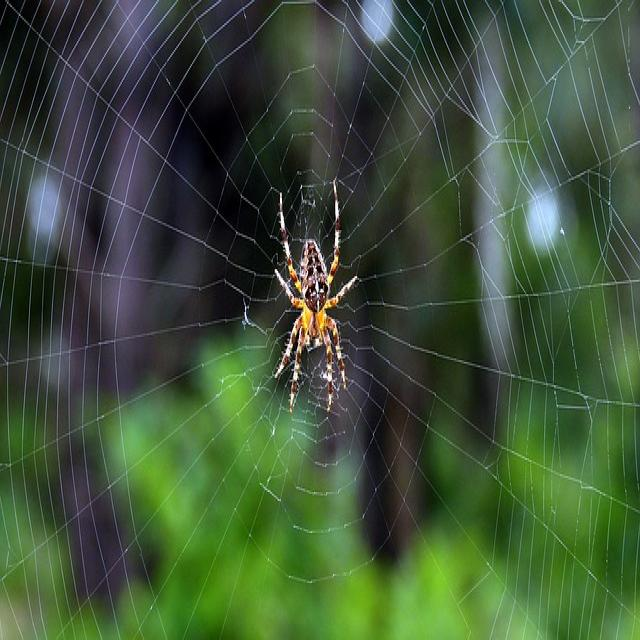spyder: (275, 181, 358, 412)
